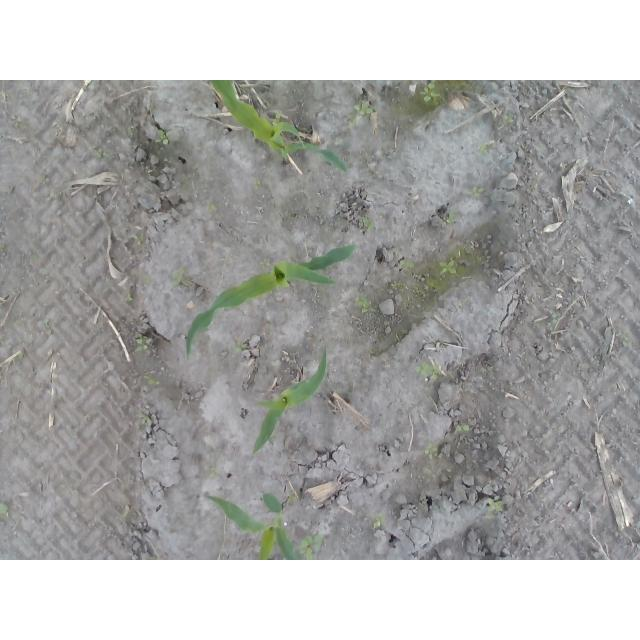Maize: (185, 244, 355, 361), (211, 81, 350, 173), (252, 349, 329, 456), (198, 491, 300, 559)
Weeds: (295, 536, 327, 559), (487, 494, 505, 520), (420, 84, 440, 105), (414, 364, 438, 381), (358, 296, 378, 315), (173, 266, 188, 290), (440, 261, 458, 276), (371, 513, 385, 531), (354, 101, 372, 115), (398, 258, 415, 272), (137, 337, 151, 353), (446, 215, 461, 229), (425, 444, 437, 461), (156, 129, 170, 143), (93, 149, 112, 159), (146, 378, 161, 390), (362, 217, 374, 231), (139, 414, 152, 426), (470, 187, 483, 197), (505, 113, 515, 124), (1, 502, 8, 517), (480, 144, 491, 153), (455, 425, 469, 432), (122, 506, 130, 518), (134, 236, 143, 245), (125, 294, 131, 302)
